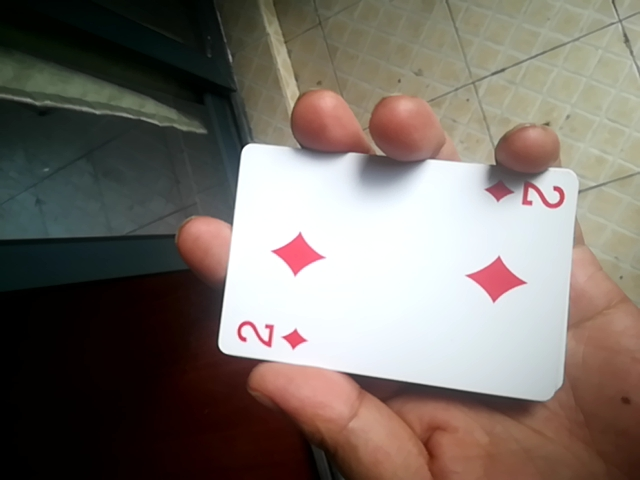fk 2: (212, 150, 592, 406)
